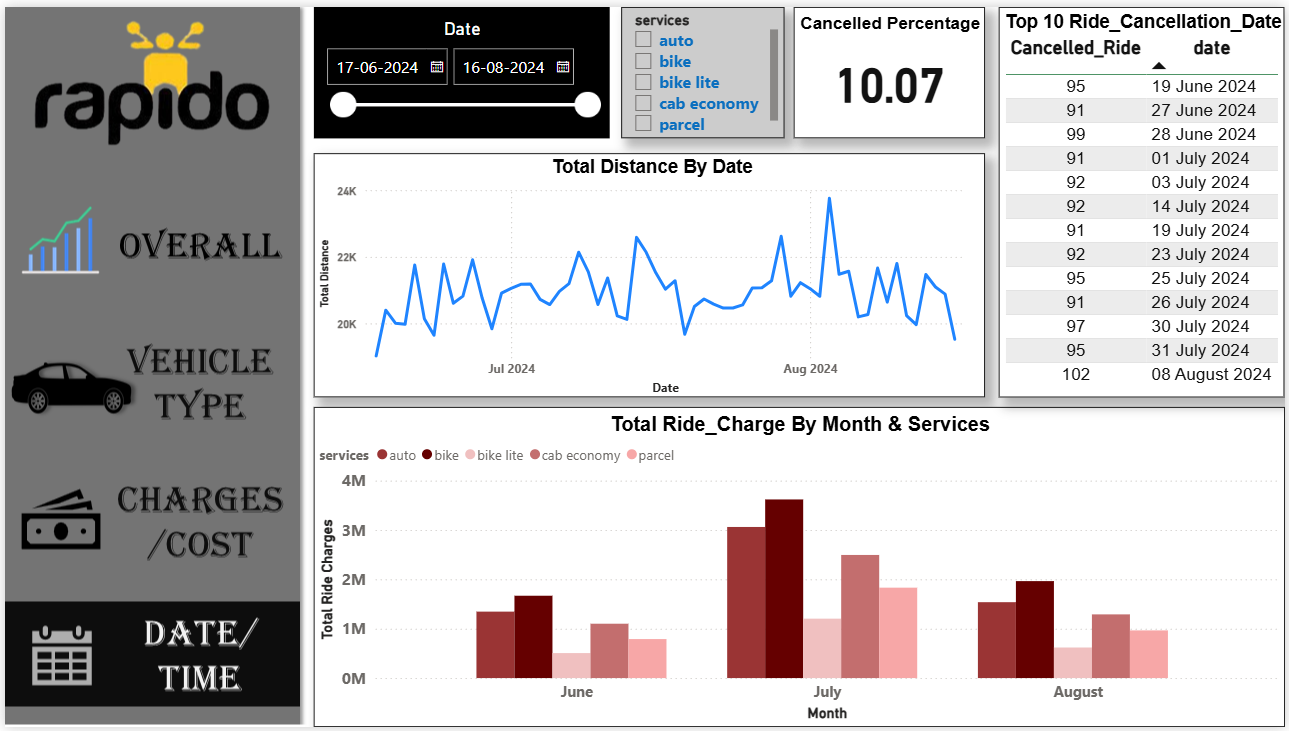

Layout of this report page (visuals, bound fields, positions):
{"tool":"powerbi","page":{"name":"Date/Time","canvas":[1280,720],"ordinal":3},"visuals":[{"type":"actionButton","box":[0,185.4,297,101],"z":0},{"type":"actionButton","box":[0,325.4,297,101],"z":1000},{"type":"actionButton","box":[1,462,297,101],"z":2000},{"type":"actionButton","box":[1.2,590,297.5,108.8],"z":3000},{"type":"slicer","title":"Date","fields":{"Values":["Sheet1.date"]},"box":[308.6,0,295.7,131.4],"z":4000},{"type":"slicer","fields":{"Values":["Sheet1.services"]},"box":[615.7,0,162.9,131.4],"z":5000},{"type":"cardVisual","title":"Cancelled Percentage","fields":{"Data":["Rapido_row_data.CancelledPercentage"]},"box":[788.6,0,191.4,131.4],"z":6000},{"type":"lineChart","title":"Total Distance By Date","fields":{"Y":["Sum(Rapido_row_data.distance)"],"Category":["Rapido_row_data.date.Variation.Date Hierarchy.Year","Rapido_row_data.date.Variation.Date Hierarchy.Quarter","Rapido_row_data.date.Variation.Date Hierarchy.Month","Rapido_row_data.date.Variation.Date Hierarchy.Day"]},"box":[308.6,145.7,671.4,244.3],"z":7000},{"type":"clusteredColumnChart","title":"Total Ride_Charge By Month & Services","fields":{"Category":["Rapido_row_data.date.Variation.Date Hierarchy.Month"],"Y":["Sum(Rapido_row_data.ride_charge)"],"Series":["Rapido_row_data.services"]},"box":[308.6,400,971.4,320],"z":8000},{"type":"tableEx","title":"Top 10 Ride_Cancellation_Date","fields":{"Values":["Rapido_row_data.ride_status","Rapido_row_data.date"]},"box":[994.3,0,285.7,390],"z":9000}]}

Visuals, with their boxes in screenshot pixels (x1, y1, x2, y2), scaled from the page's 1280x720 canvas onto the 1289x731 screenshot:
actionButton: <bbox>0, 188, 299, 291</bbox>
actionButton: <bbox>0, 330, 299, 433</bbox>
actionButton: <bbox>1, 469, 300, 572</bbox>
actionButton: <bbox>1, 599, 301, 709</bbox>
"Date" slicer: <bbox>311, 0, 609, 133</bbox>
slicer - Sheet1.services: <bbox>620, 0, 784, 133</bbox>
"Cancelled Percentage" cardVisual: <bbox>794, 0, 987, 133</bbox>
"Total Distance By Date" lineChart: <bbox>311, 148, 987, 396</bbox>
"Total Ride_Charge By Month & Services" clusteredColumnChart: <bbox>311, 406, 1288, 730</bbox>
"Top 10 Ride_Cancellation_Date" tableEx: <bbox>1001, 0, 1288, 396</bbox>
